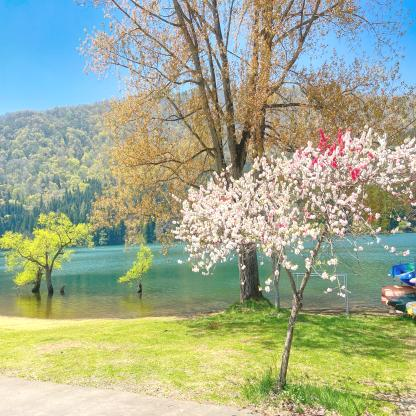Momo: (168, 126, 416, 301)
